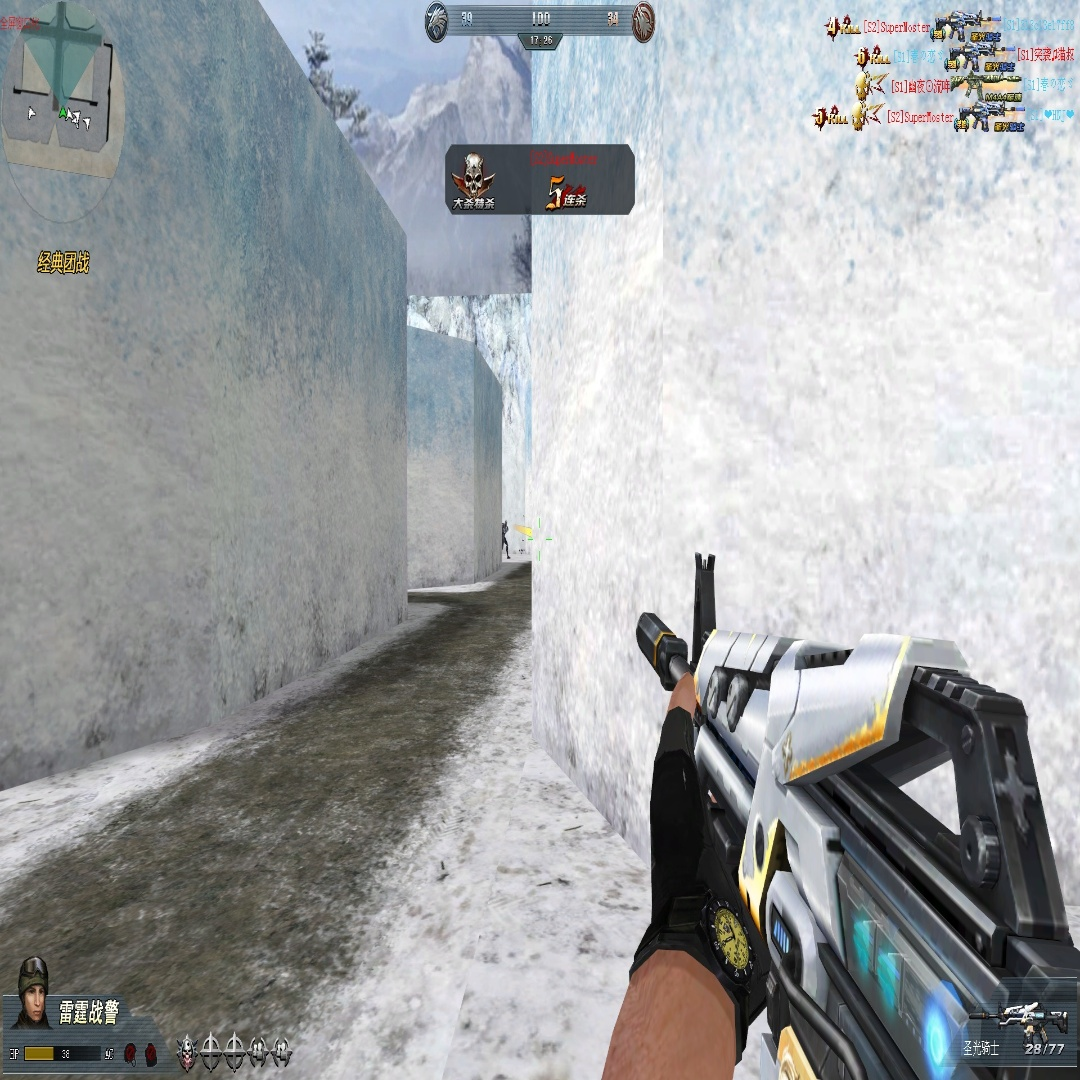head: (505, 520, 507, 526)
t: (501, 519, 510, 559)
